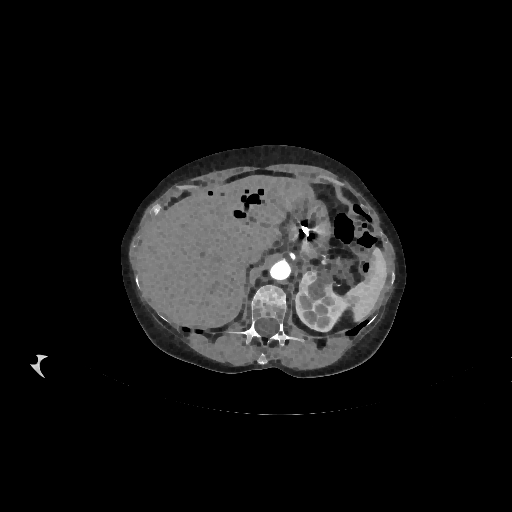Lesion: (297, 265, 333, 305)
